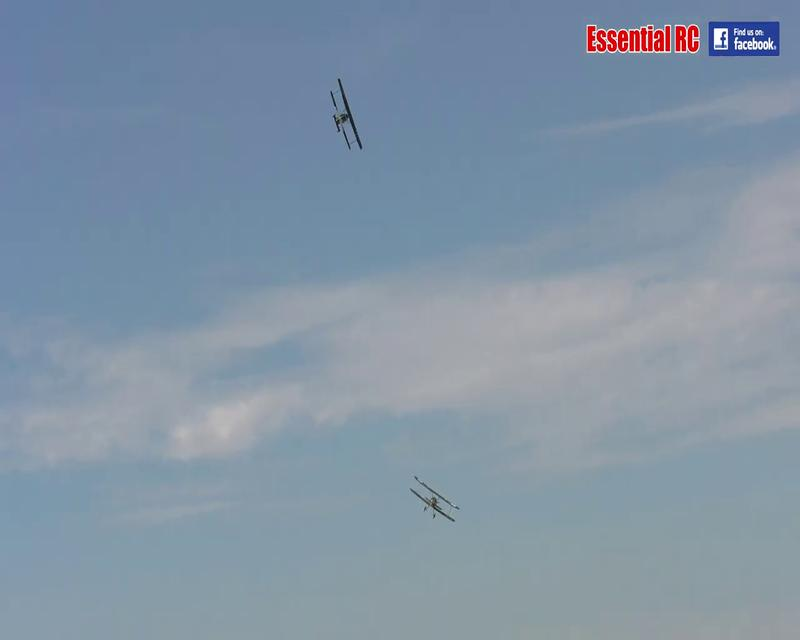UAV: (412, 476, 462, 526), (329, 77, 363, 150)
